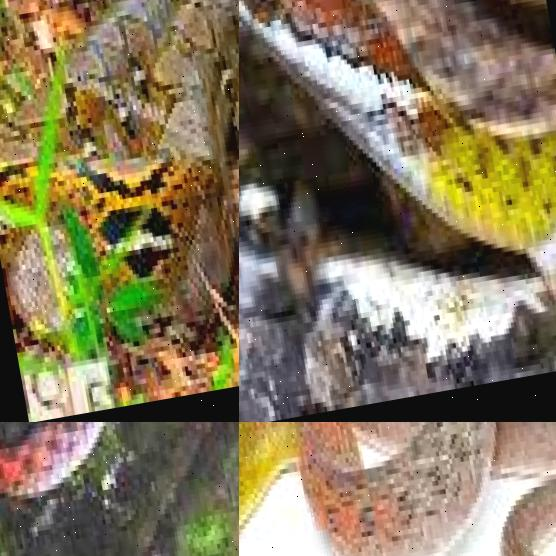snake: (239, 0, 556, 422), (0, 0, 239, 422), (239, 422, 556, 556), (0, 422, 239, 554)
